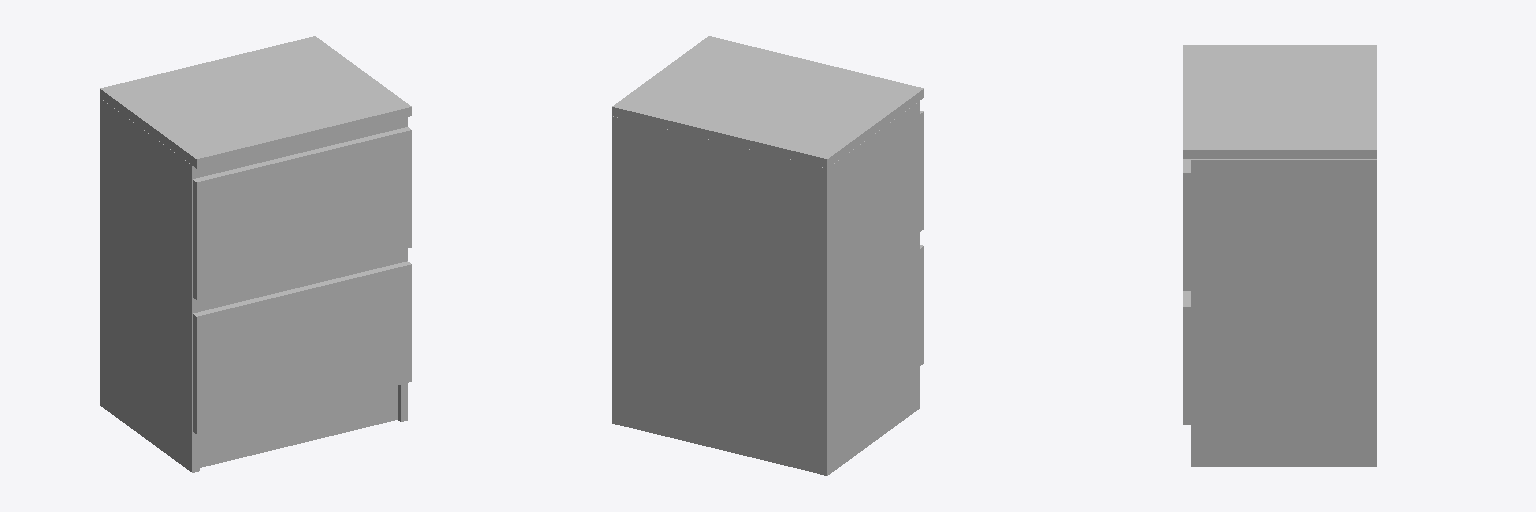
File: LIMFJORDEN.obj
The picture shows the model from 3 angles: view 1: azimuth 30°, elevation 25°; view 2: azimuth 150°, elevation 25°; view 3: azimuth 270°, elevation 25°; orthographic projection.
Parts seen in each view (by area): view 1: Cube.002_Cube.003, Cube.001, Cube.003_Cube.002, Cube.004_Cube.005, Cube; view 2: Cube.002_Cube.003; view 3: Cube.002_Cube.003, Cube.003_Cube.002, Cube.001.
Part boxes in pixels (x1,y1,x2,y2): Cube.002_Cube.003: (100, 36, 411, 472); Cube.001: (193, 127, 411, 299); Cube.003_Cube.002: (193, 261, 411, 433); Cube.004_Cube.005: (200, 385, 397, 467); Cube: (200, 119, 400, 311); Cube.002_Cube.003: (612, 36, 923, 475); Cube.002_Cube.003: (1183, 45, 1376, 466); Cube.003_Cube.002: (1183, 291, 1190, 424); Cube.001: (1183, 159, 1190, 290).
Bounding box in the file's own units: 0.8222 × 1.15 × 0.6399.